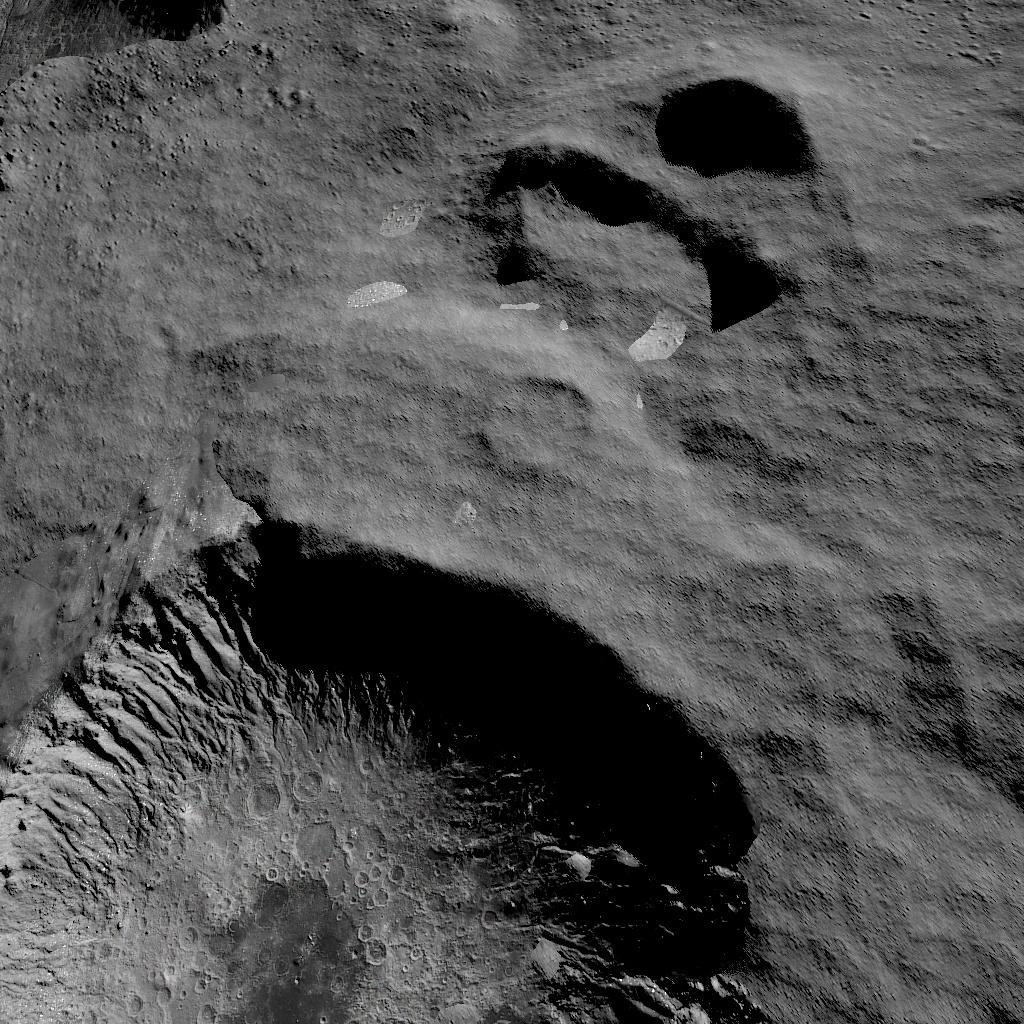Boulders: (0, 0, 250, 156)
Crater: (0, 508, 773, 1024), (470, 40, 845, 316), (462, 362, 598, 490)
Plan surface: (0, 170, 454, 496)
